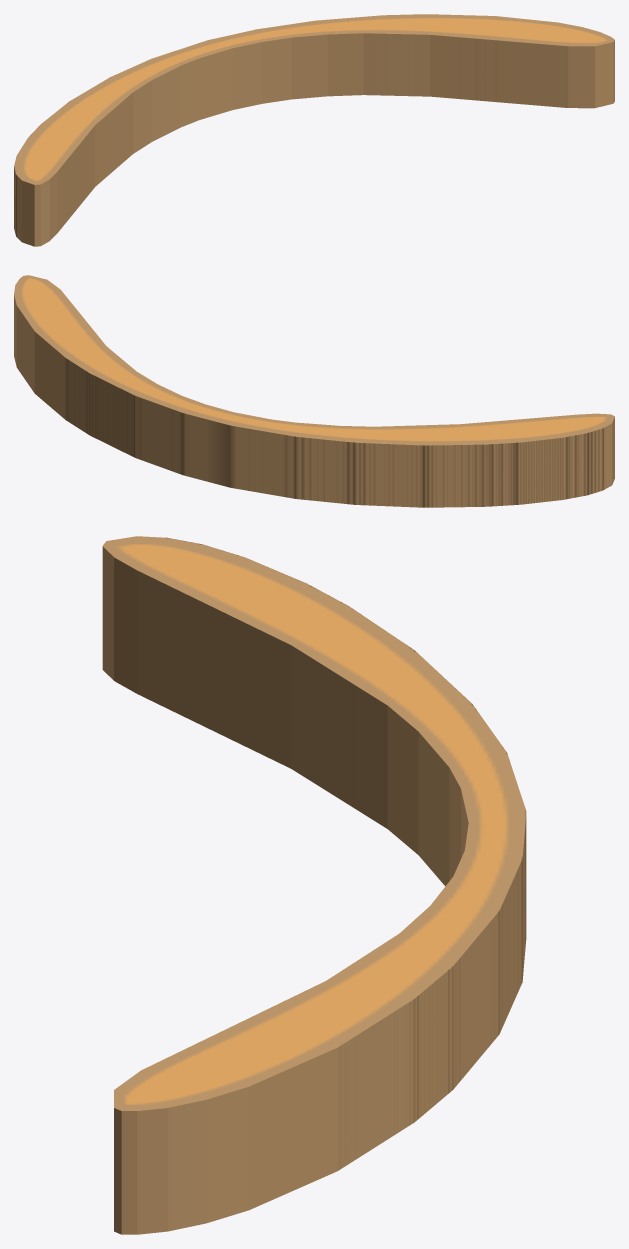
Rendered from golgi.gltf.
3 views of the same model, one above another, from view 1: azimuth 30°, elevation 25°; view 2: azimuth 150°, elevation 25°; view 3: azimuth 270°, elevation 25° (orthographic). The views are drawn at different scales.
Bounding box in the file's own units: 0.0897 × 0.00899 × 0.0279.
1 material, 1 textured.
